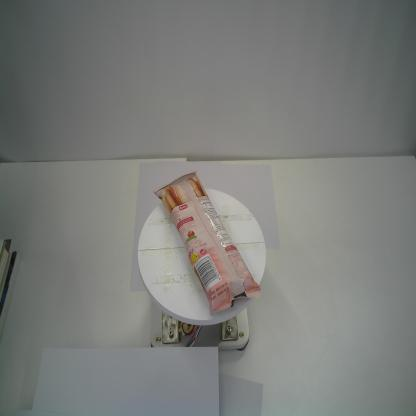Dessert: (151, 170, 263, 317)
